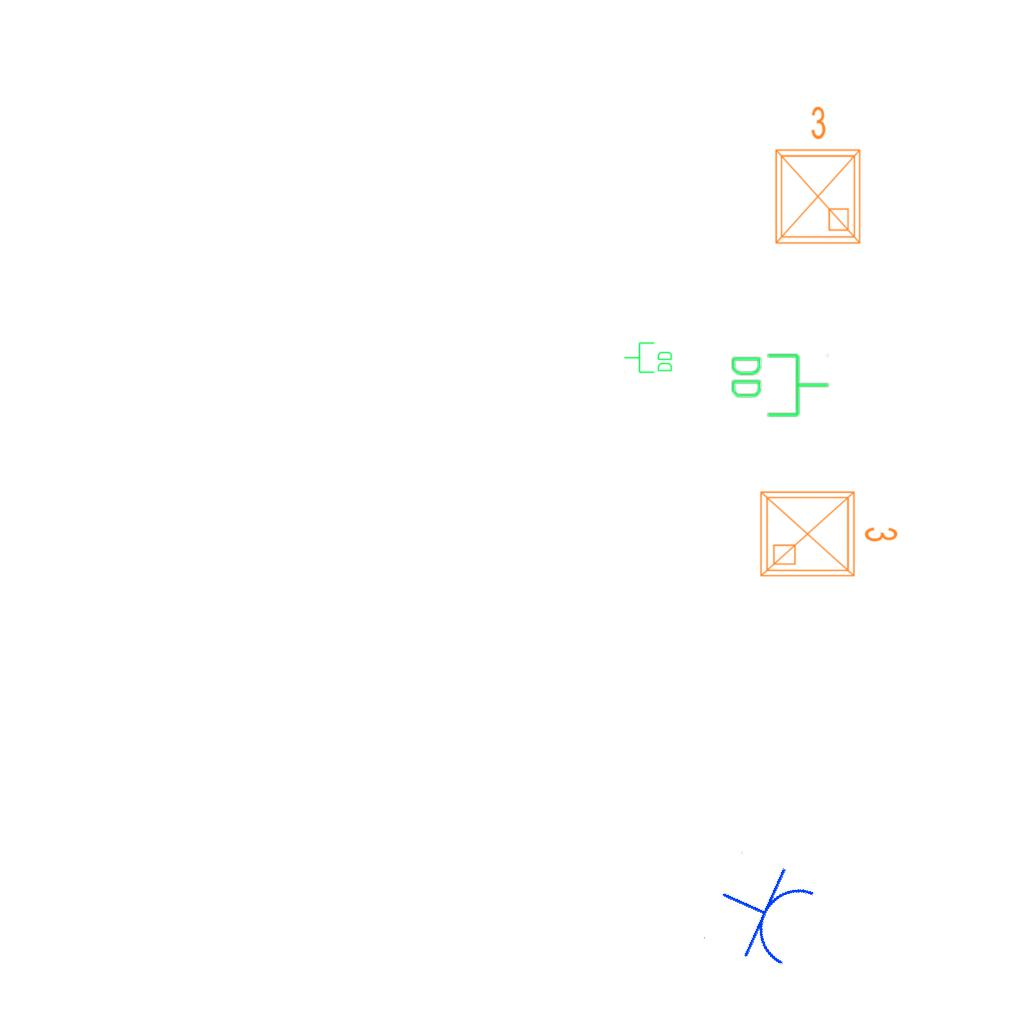Datenanschluss_zweifach: (728, 350, 831, 419), (623, 341, 674, 375)
Einbaudownlights_LED_Konferenzraeume: (764, 101, 868, 251), (753, 480, 903, 584)
Schukosteckdose_einfach: (701, 849, 823, 976)
